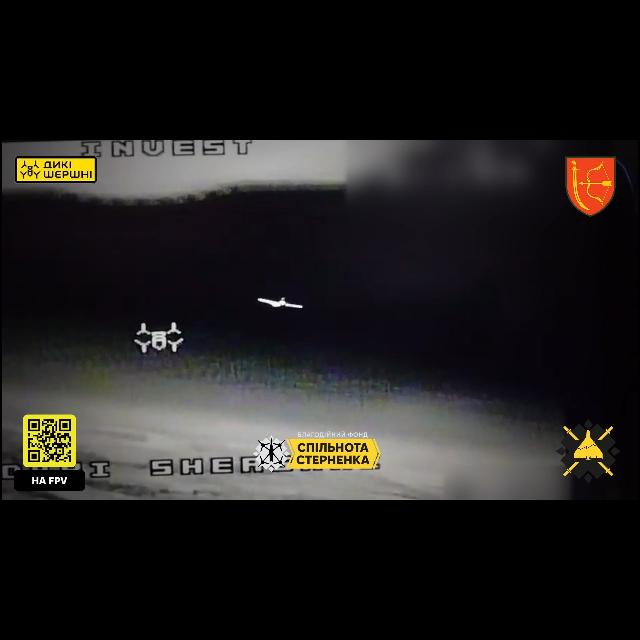Gerbera: (257, 296, 303, 308)
